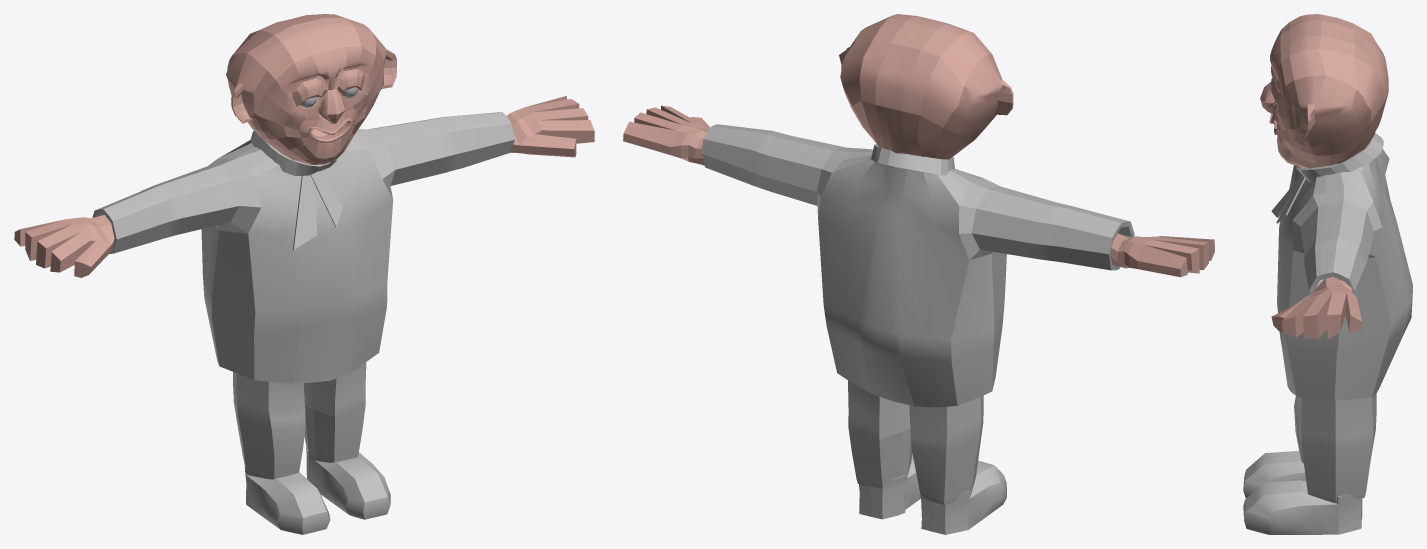
The model's file is Tatya.fbx.
3 renders of one model, left to right at view 1: azimuth 30°, elevation 25°; view 2: azimuth 150°, elevation 25°; view 3: azimuth 270°, elevation 25°, orthographic.
Parts seen in each view (by area): view 1: polySurface21, polySurface19; view 2: polySurface21, polySurface19; view 3: polySurface21, polySurface19.
Boxes of the visible parts, x1,y1,x2,y2 form: polySurface21: [14, 96, 594, 534]; polySurface19: [226, 14, 396, 164]; polySurface21: [623, 105, 1214, 534]; polySurface19: [839, 14, 1013, 159]; polySurface21: [1243, 133, 1412, 534]; polySurface19: [1260, 14, 1388, 168].
Bounding box in the file's own units: 587 × 487 × 156.
